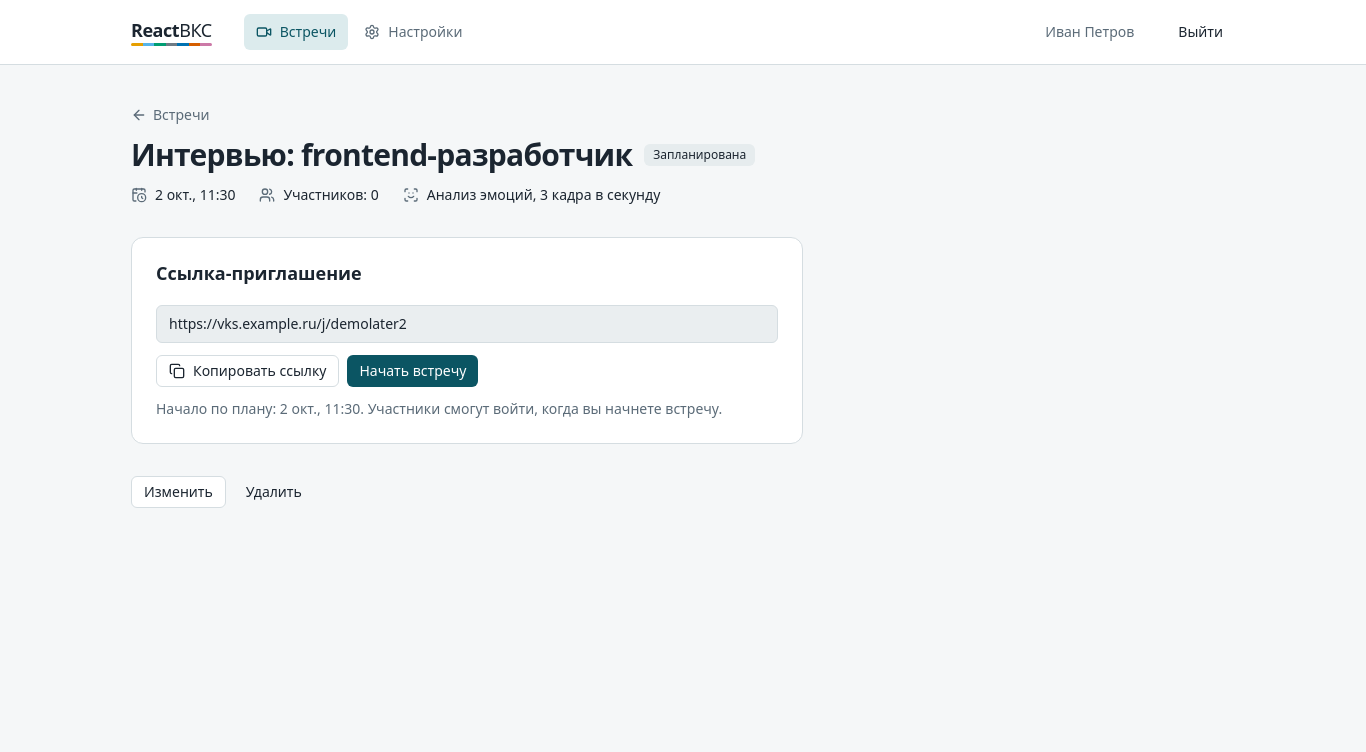
Test: карточка встречи › управление › meeting_not_editable от сервера – понятное сообщение
Click the button "Изменить" at (178,492), box [131,476,226,508]
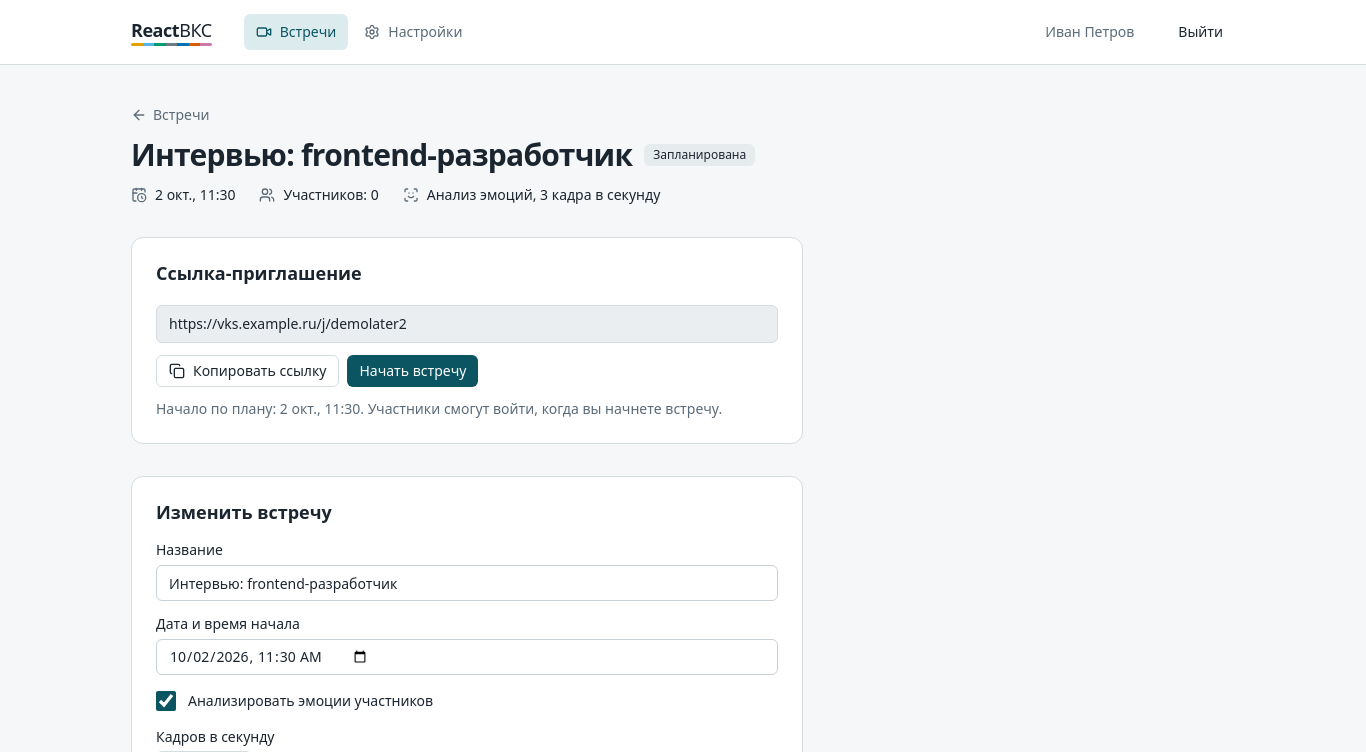
Type "!" into the field labelled "Название" at (467,583), box [156,565,778,601]
(page scrolled)
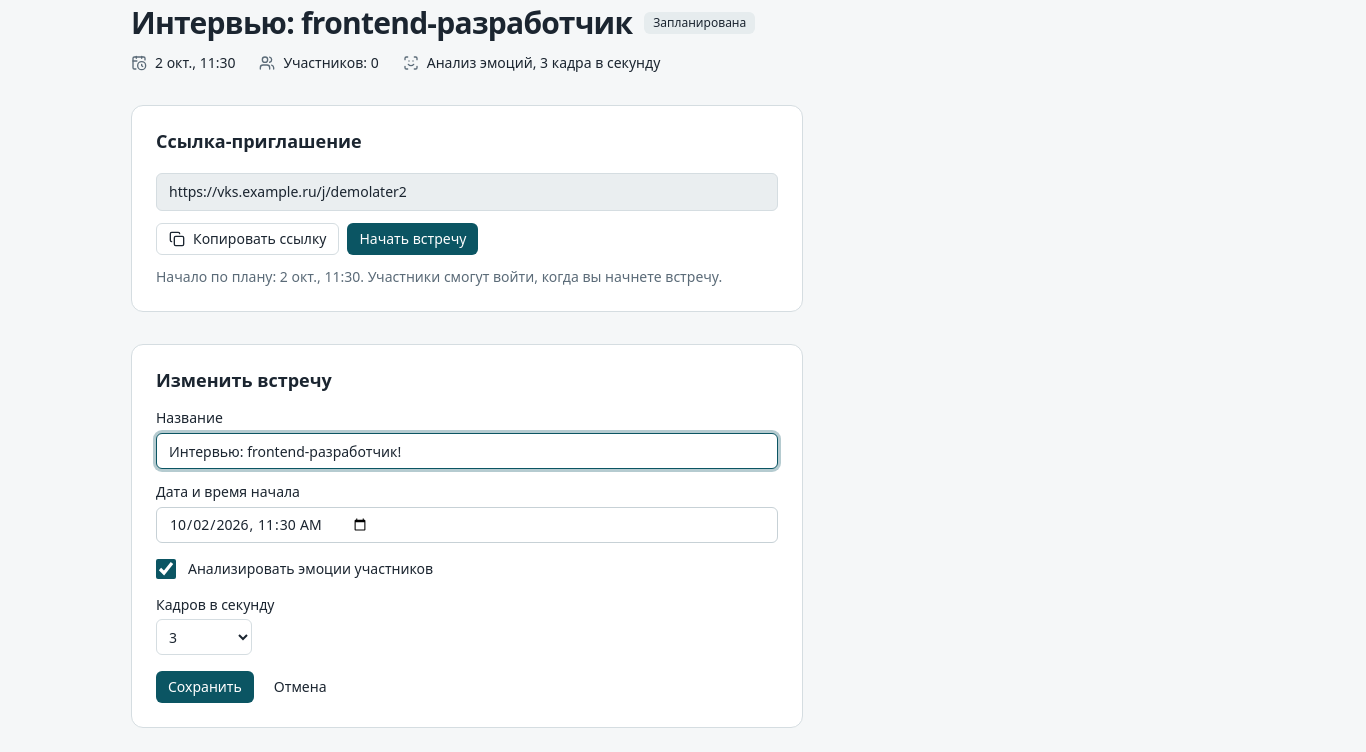
Click the button "Сохранить" at (205,687), box [156,671,254,703]
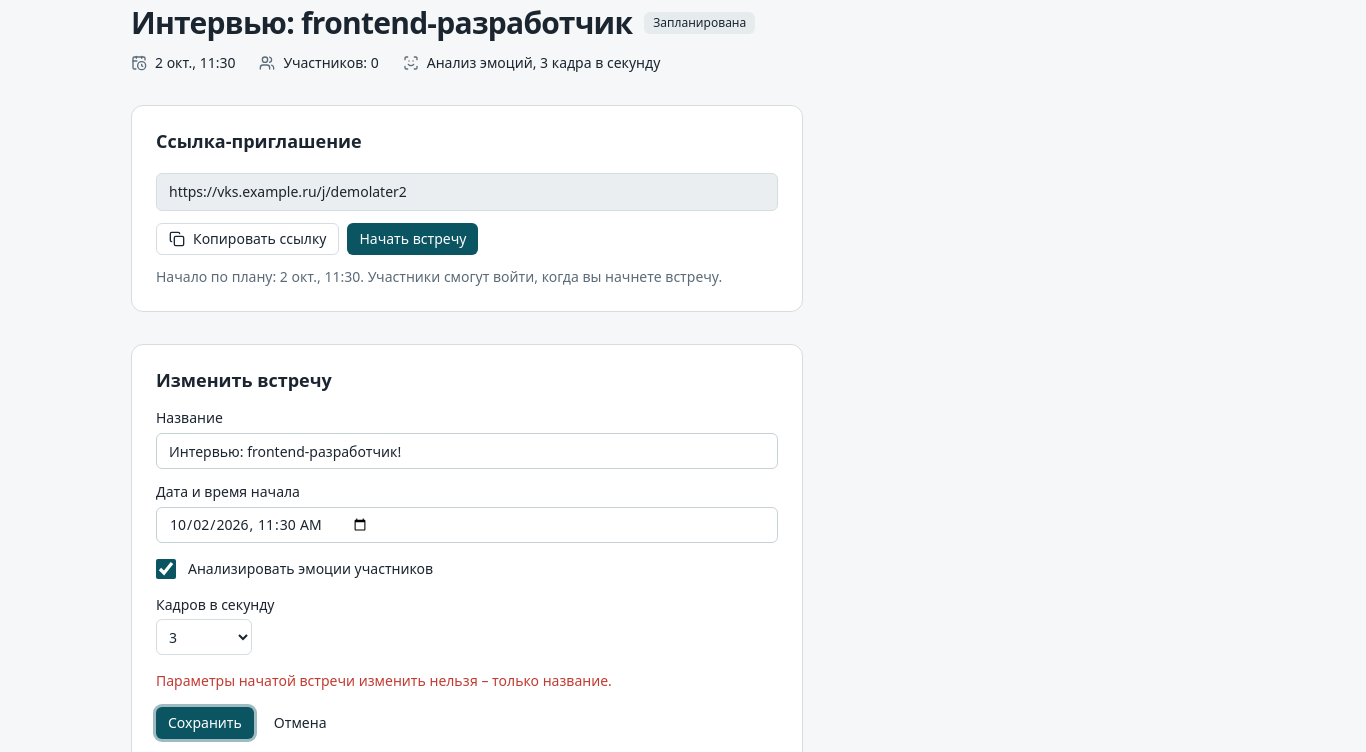
Check: the message shows "изменить нельзя", box [156,671,612,690]
